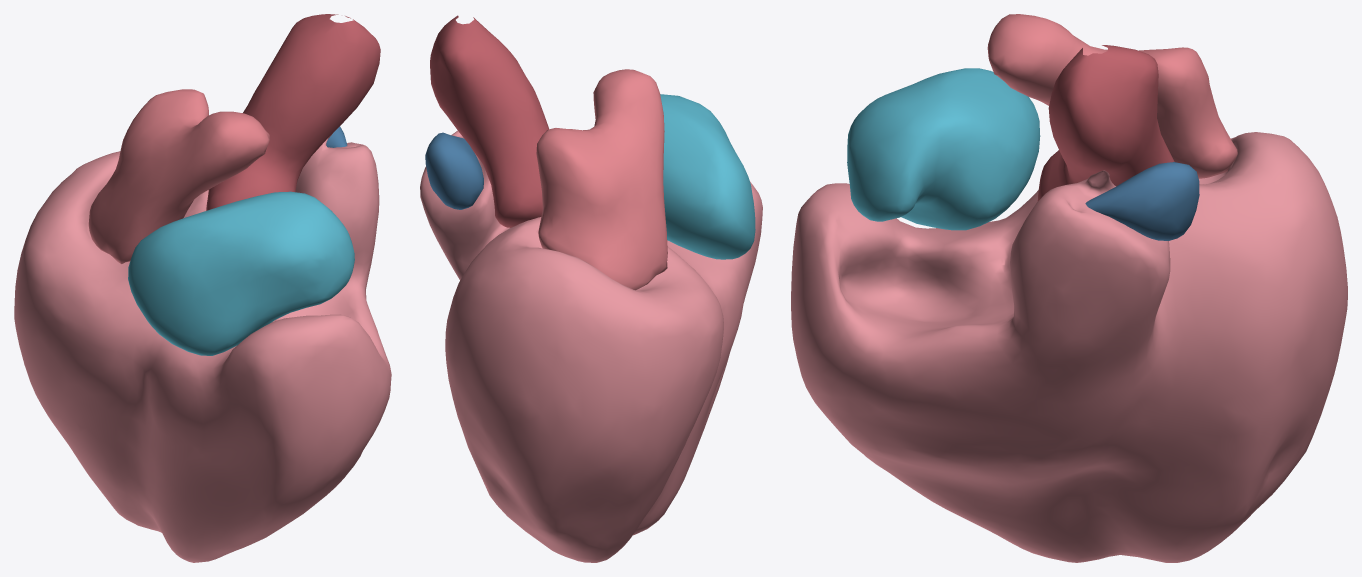
File: frame_71.glb
The picture shows the model from 3 angles, left to right: view 1: azimuth 30°, elevation 25°; view 2: azimuth 150°, elevation 25°; view 3: azimuth 270°, elevation 25°; orthographic projection. The views are drawn at different scales.
Parts seen in each view (by area): view 1: Renderer Node; view 2: Renderer Node; view 3: Renderer Node.
Part boxes in pixels (bbox=[...]): Renderer Node: bbox=[14, 14, 391, 562]; Renderer Node: bbox=[420, 15, 762, 562]; Renderer Node: bbox=[791, 14, 1347, 562].
Bounding box in the file's own units: 107 × 164 × 137.
